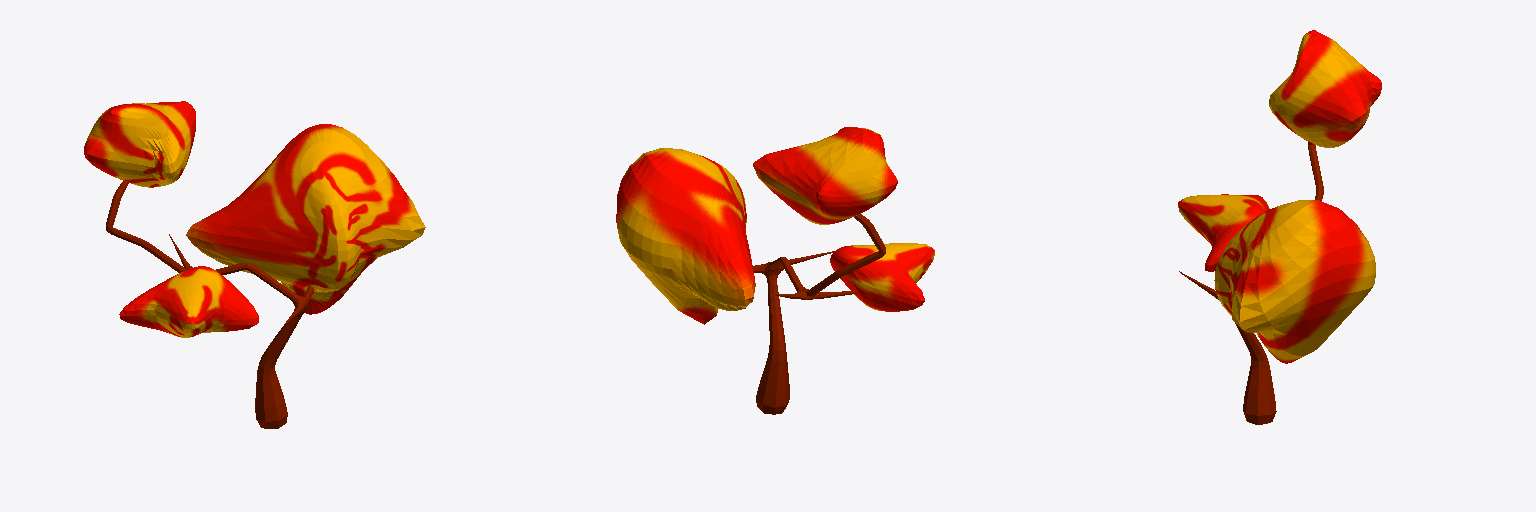
3 renders of one model, left to right at view 1: azimuth 30°, elevation 25°; view 2: azimuth 150°, elevation 25°; view 3: azimuth 270°, elevation 25°, orthographic.
Visible parts, largest first — view 1: Cube; view 2: Cube; view 3: Cube.
Part boxes in pixels (bbox=[...]): Cube: bbox=[84, 101, 425, 428]; Cube: bbox=[616, 127, 934, 414]; Cube: bbox=[1178, 30, 1381, 424].
Bounding box in the file's own units: 6.77 × 7.17 × 4.
Materials: 1 (1 with a texture image).